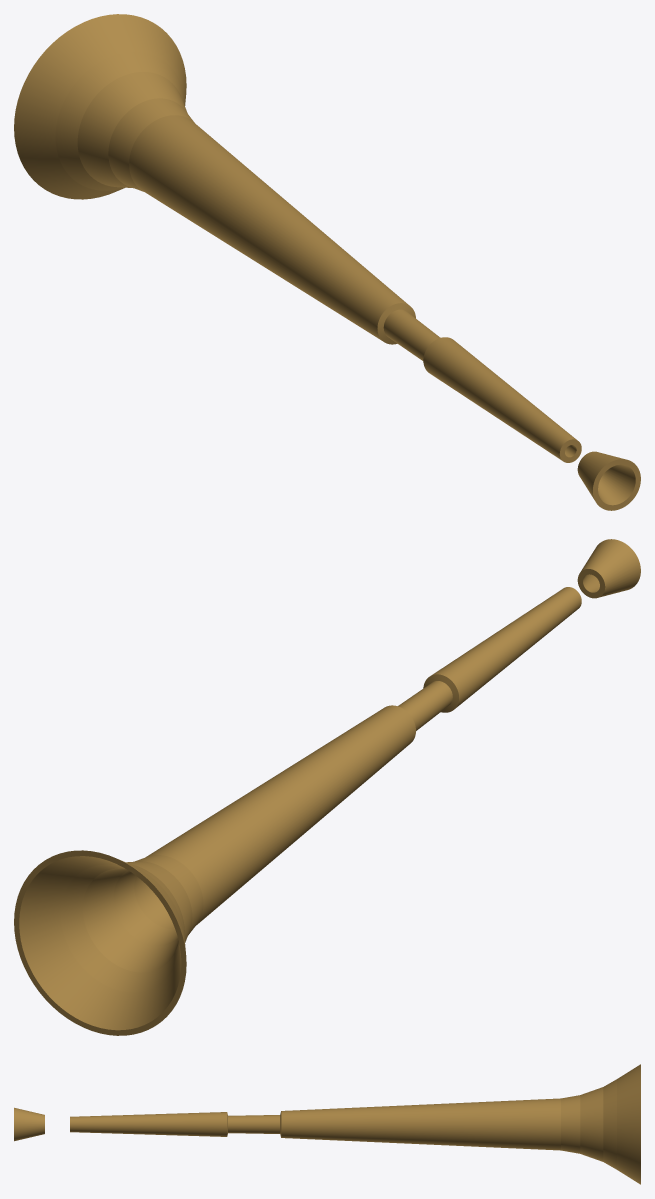
The picture shows the model from 3 angles, top to bottom: view 1: azimuth 30°, elevation 25°; view 2: azimuth 150°, elevation 25°; view 3: azimuth 270°, elevation 25°; orthographic projection. The views are drawn at different scales.
Visible parts, largest first — view 1: horn; view 2: horn; view 3: horn.
Part boxes in pixels (bbox=[...]): horn: bbox=[14, 14, 640, 510]; horn: bbox=[14, 539, 640, 1035]; horn: bbox=[14, 1064, 640, 1184].
Bounding box in the file's own units: 0.1254 × 0.1254 × 0.65.
